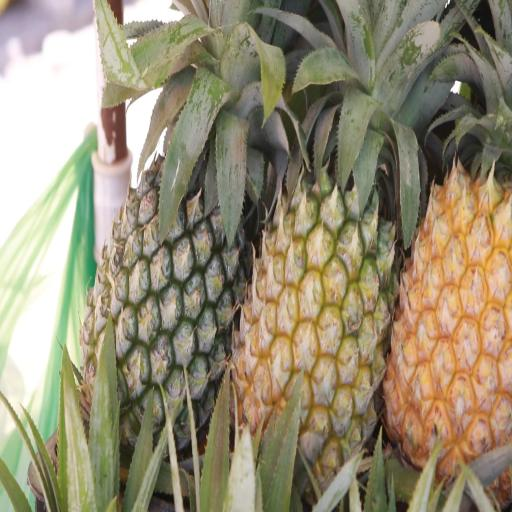------------------------------: (227, 43, 396, 499)
Pineapple - v8 v1: (376, 24, 512, 504)
